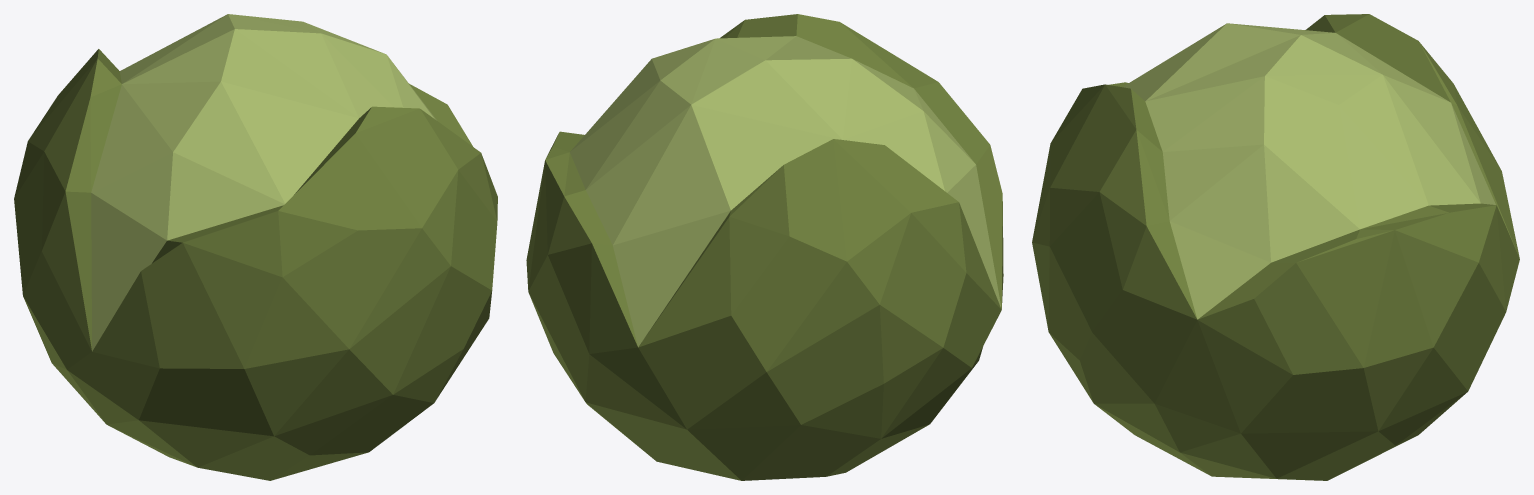
The model's file is fantasy_food_cabbage.fbx.
3 views of the same model, side by side, from view 1: azimuth 30°, elevation 25°; view 2: azimuth 150°, elevation 25°; view 3: azimuth 270°, elevation 25° (orthographic).
Visible parts, largest first — view 1: Icosphere.008; view 2: Icosphere.008; view 3: Icosphere.008.
Boxes of the visible parts, bbox=[...] form: Icosphere.008: bbox=[14, 14, 497, 480]; Icosphere.008: bbox=[526, 14, 1003, 480]; Icosphere.008: bbox=[1032, 14, 1519, 480].
Bounding box in the file's own units: 20.52 × 19.74 × 20.72.
